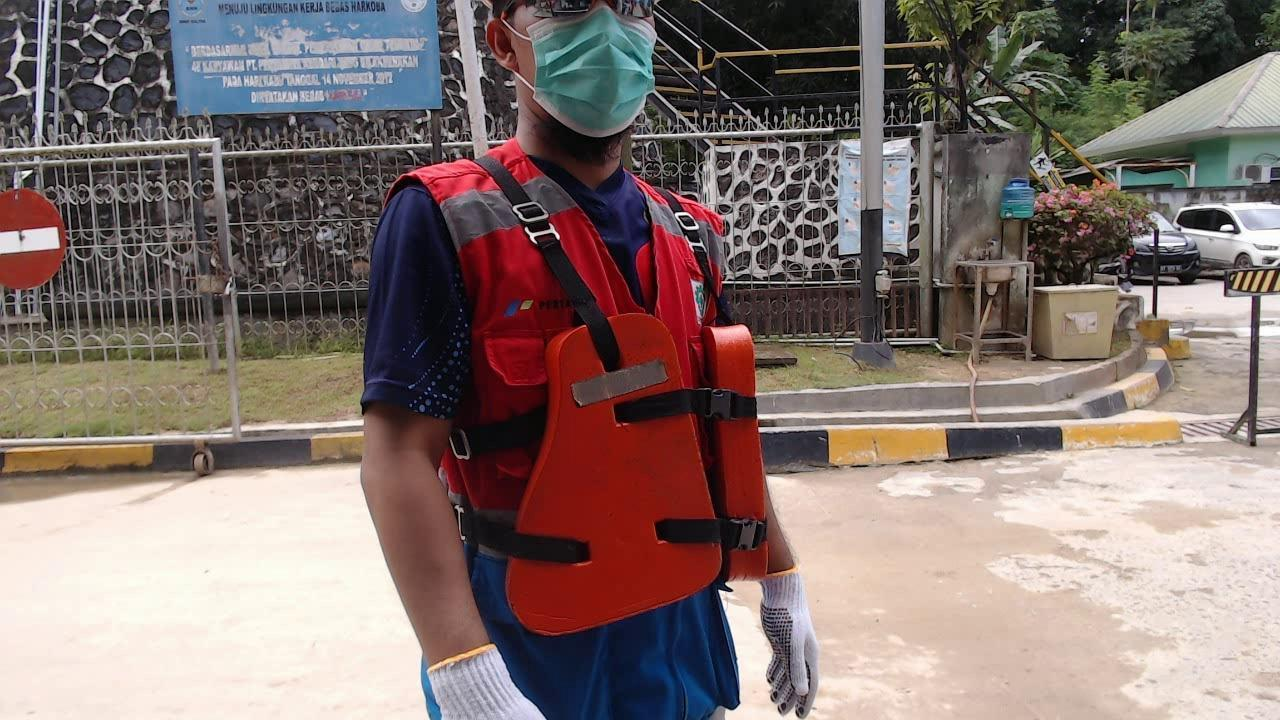vest: (491, 305, 788, 633)
